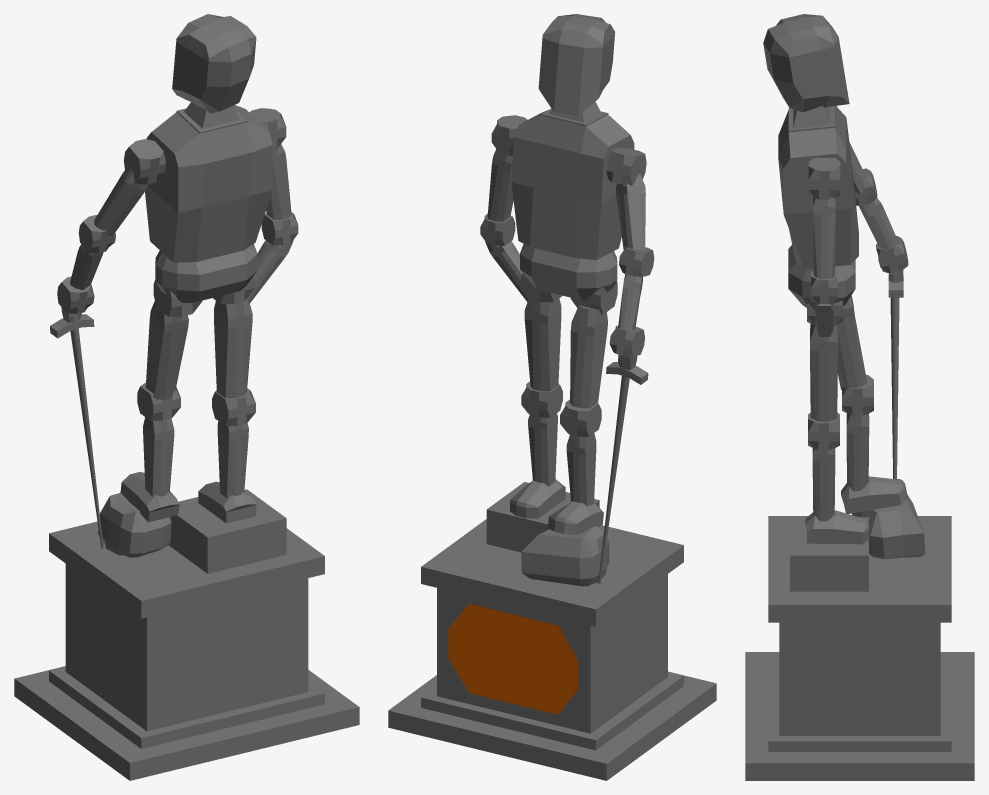
File: eye_catcher_robert.fbx
3 renders of one model, left to right at view 1: azimuth 30°, elevation 25°; view 2: azimuth 150°, elevation 25°; view 3: azimuth 270°, elevation 25°, orthographic. The views are drawn at different scales.
Visible parts, largest first — view 1: Cylinder; view 2: Cylinder; view 3: Cylinder.
Part boxes in pixels (x1,y1,x2,y2): Cylinder: (14, 14, 359, 780); Cylinder: (388, 14, 716, 780); Cylinder: (745, 14, 974, 780).
Size of the model in its own units: 368 by 1081 by 320.
